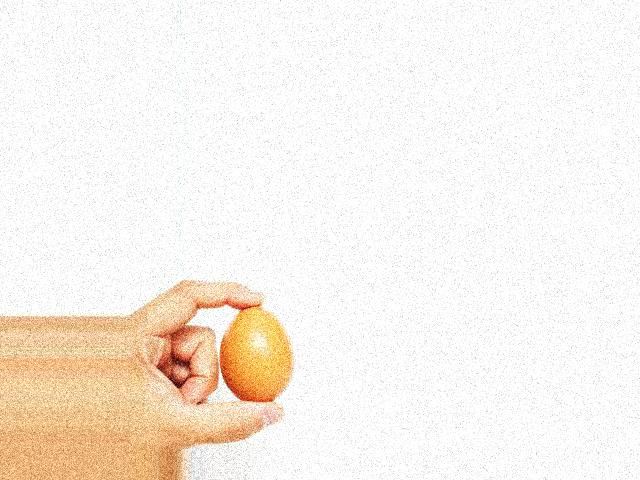egg: (219, 304, 295, 402)
